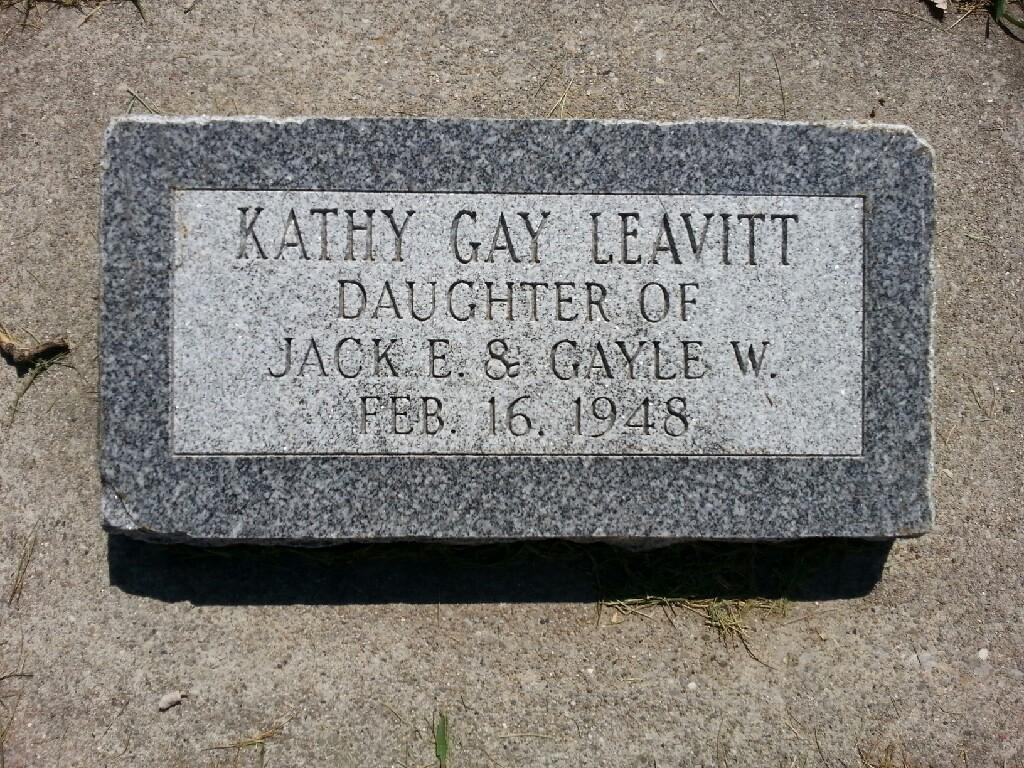flat: (102, 113, 932, 545)
